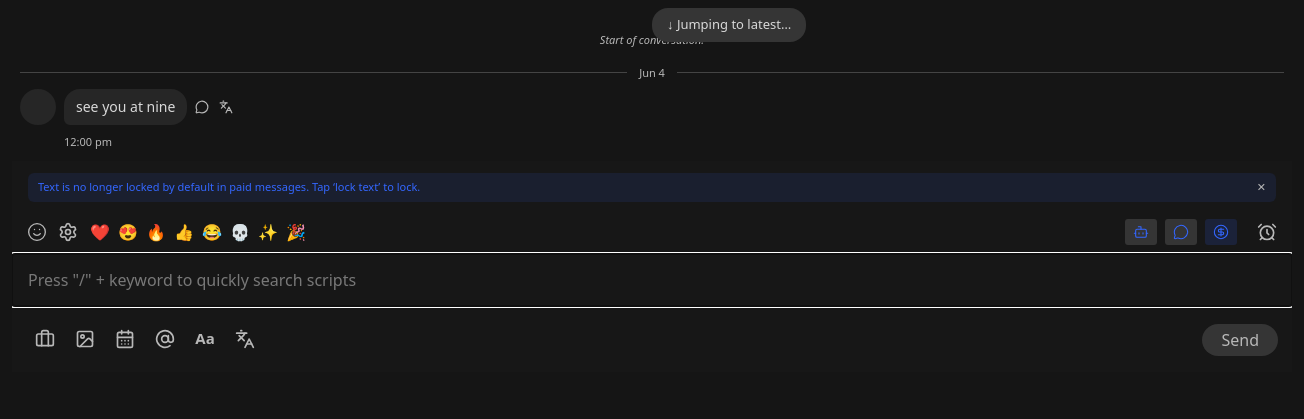
MessageList reply strip, with the real Composer › clicking ↩ on a bubble shows 'Replying to: <text>' inside the Composer
Check: the text "Replying to" is not shown
What coordinates should you click on to do the following:
click the button titled "Quote-reply"
I would click on:
 (202, 107)
Its box is [190,95,214,119].
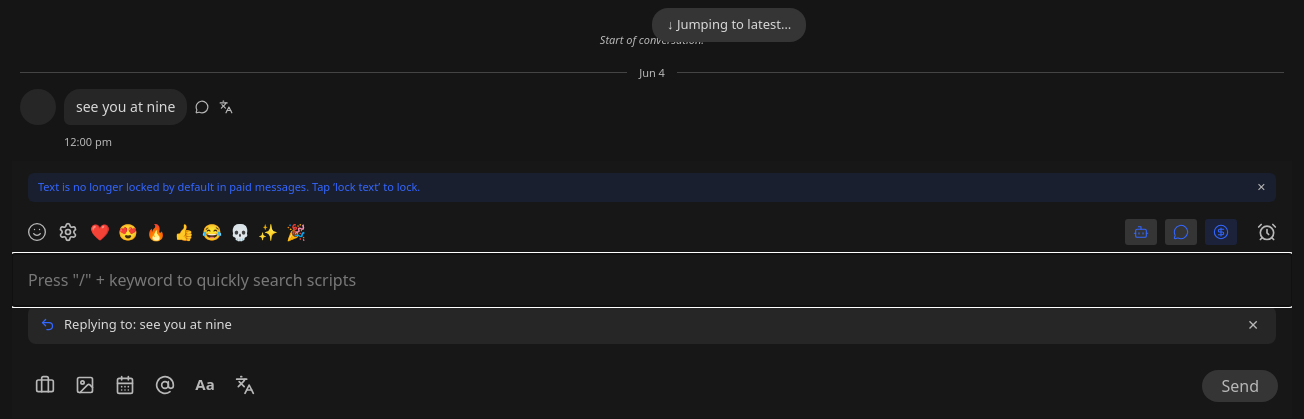
Check: the text "Replying to: see you at nine" is shown, box [64,315,232,333]
Check: the button named "Cancel reply" is shown, box [1242,314,1264,336]
